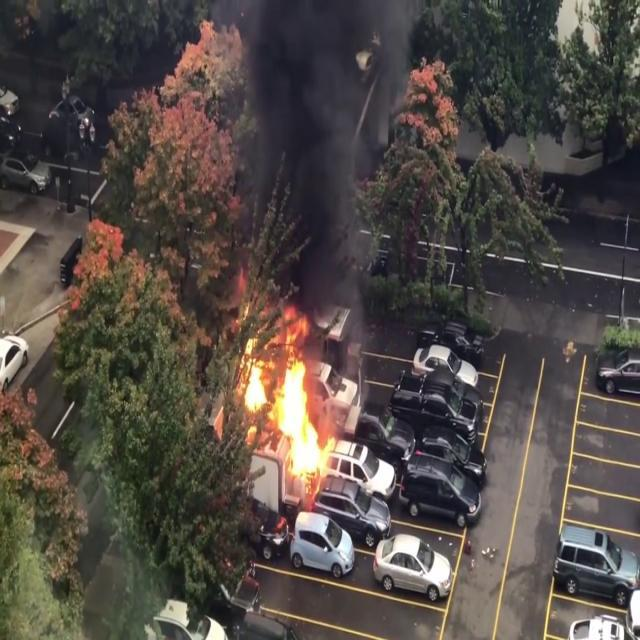Fire: (234, 319, 352, 489)
Smoke: (230, 0, 388, 289)
